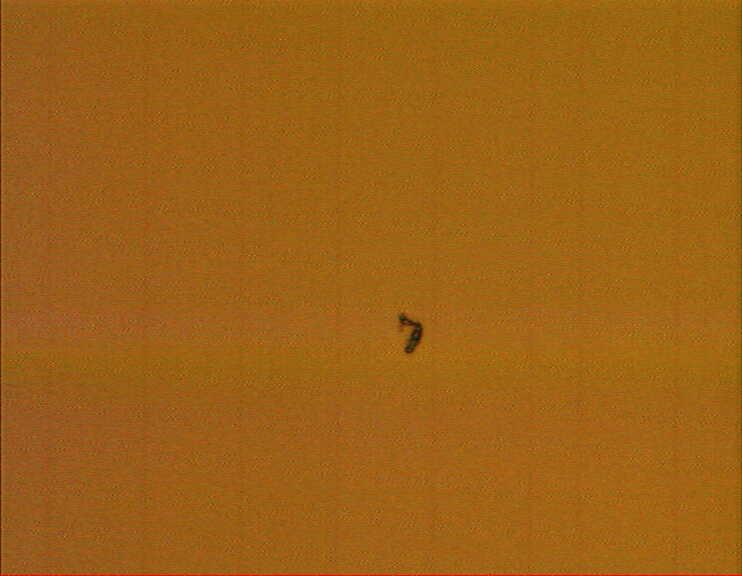PIQ PARTICLE: (394, 308, 430, 363)
